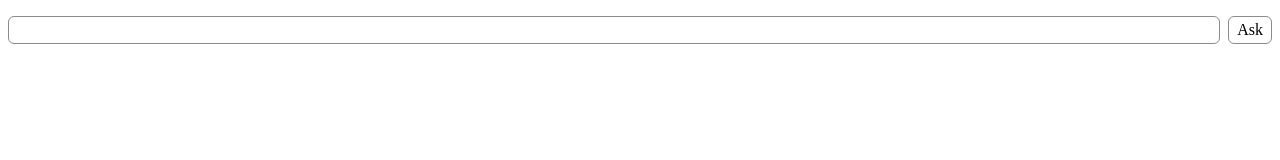
Test case: AssistantBox asking (spec assistant §4, §5) › Escape clears a non-empty field and stops there; Clear empties turns, aborts and reports null
In the field: (614,30) [8, 16, 1220, 44], type "done"
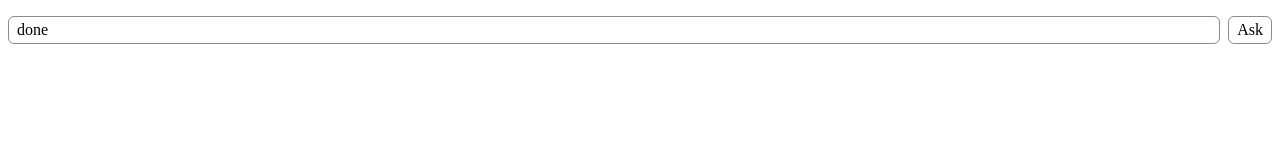
Submit the form, box [8, 16, 1272, 44]
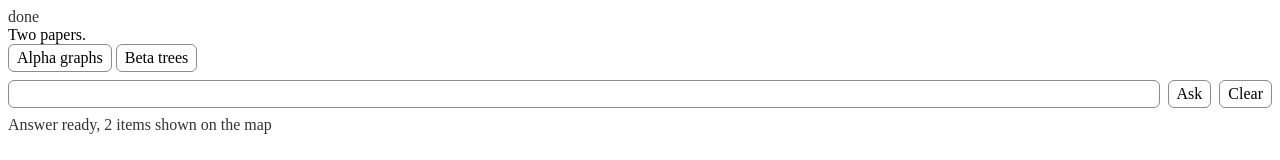
In the field: (584,94) [8, 80, 1160, 108], type "draft"
Press Escape in the field, box [8, 80, 1160, 108]
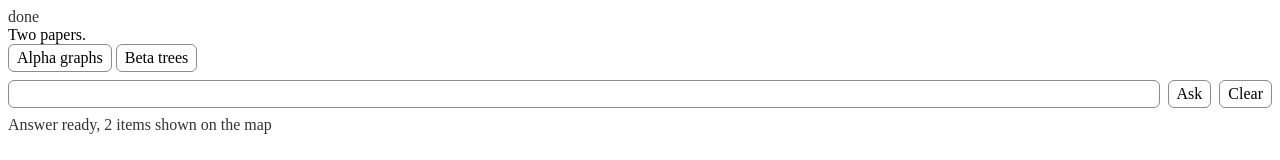
Expected: the field is empty
In the field: (584,94) [8, 80, 1160, 108], type "pending"
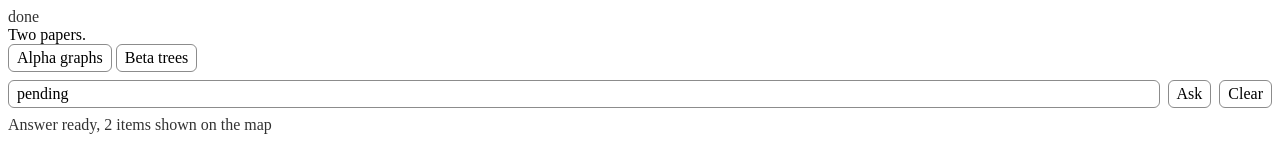
Submit the form, box [8, 80, 1272, 108]
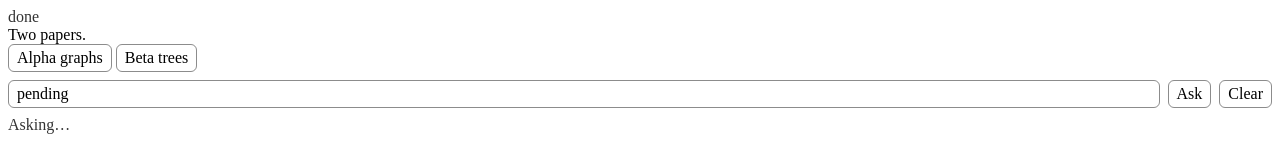
Click the button "Clear": (1246,94) [1219, 80, 1272, 108]
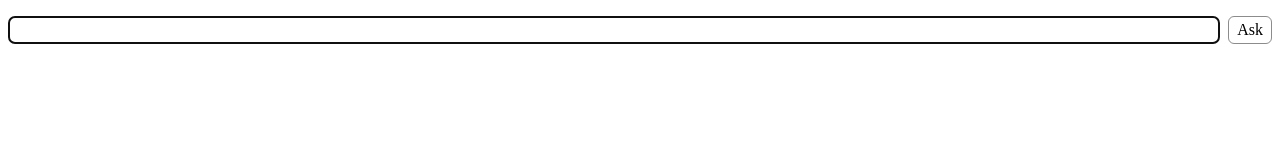
Expected: the button "Clear" is gone
